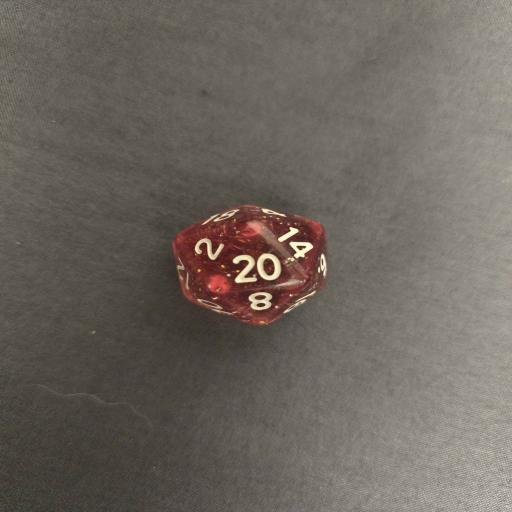twenty sided dice: (172, 204, 327, 326)
